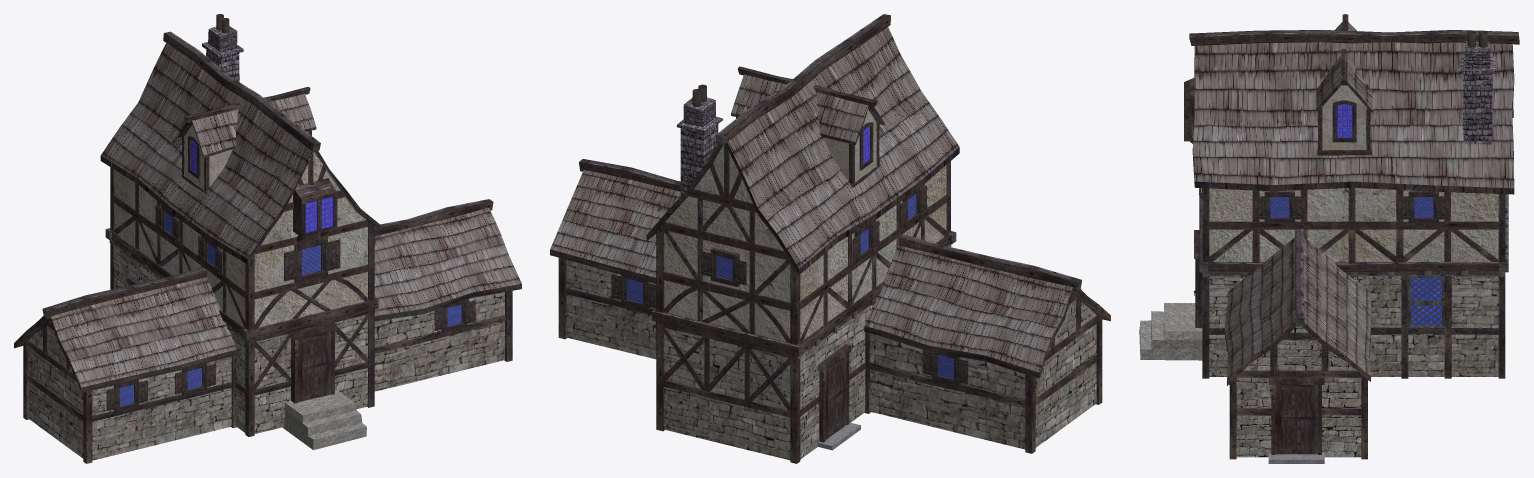
Rendered from house4.glb.
The picture shows the model from 3 angles, left to right: view 1: azimuth 30°, elevation 25°; view 2: azimuth 150°, elevation 25°; view 3: azimuth 270°, elevation 25°; orthographic projection. The views are drawn at different scales.
Visible parts, largest first — view 1: house4; view 2: house4; view 3: house4.
Boxes of the visible parts, <box> form: house4: <box>14,14,521,463</box>; house4: <box>550,14,1110,463</box>; house4: <box>1139,14,1519,463</box>.
Bounding box in the file's own units: 15.09 × 9.79 × 10.13.
Materials: 12 (12 with a texture image).
